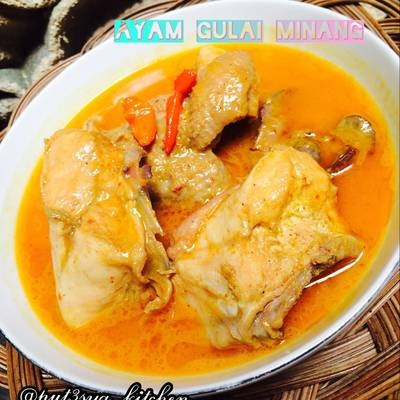gulai_ayam: (5, 51, 400, 378)
